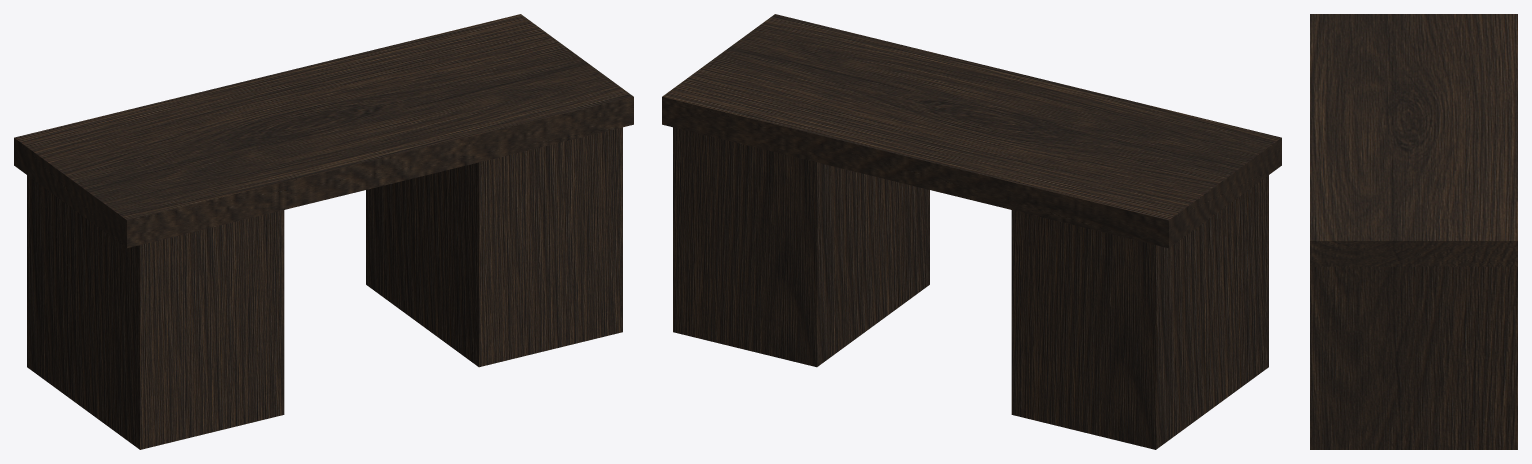
File: desk.glb
3 views of the same model, side by side, from view 1: azimuth 30°, elevation 25°; view 2: azimuth 150°, elevation 25°; view 3: azimuth 270°, elevation 25° (orthographic). The views are drawn at different scales.
Visible parts, largest first — view 1: Cube.002, Cube, Cube.001; view 2: Cube.002, Cube, Cube.001; view 3: Cube.002, Cube.001.
Part boxes in pixels (x1,y1,x2,y2): Cube.002: [14, 14, 633, 248]; Cube: [27, 175, 284, 449]; Cube.001: [366, 127, 622, 367]; Cube.002: [662, 14, 1281, 248]; Cube: [1011, 175, 1268, 449]; Cube.001: [673, 127, 929, 367]; Cube.002: [1310, 14, 1517, 266]; Cube.001: [1310, 266, 1517, 449].
Size of the model in its own units: 5.17 by 2.27 by 2.
Materials: 2 (2 with a texture image).
